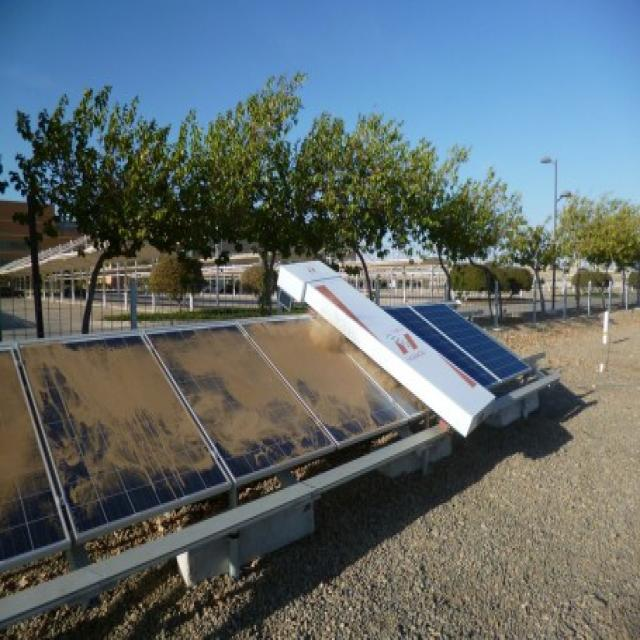dust-solar-panel: (0, 311, 408, 562)
